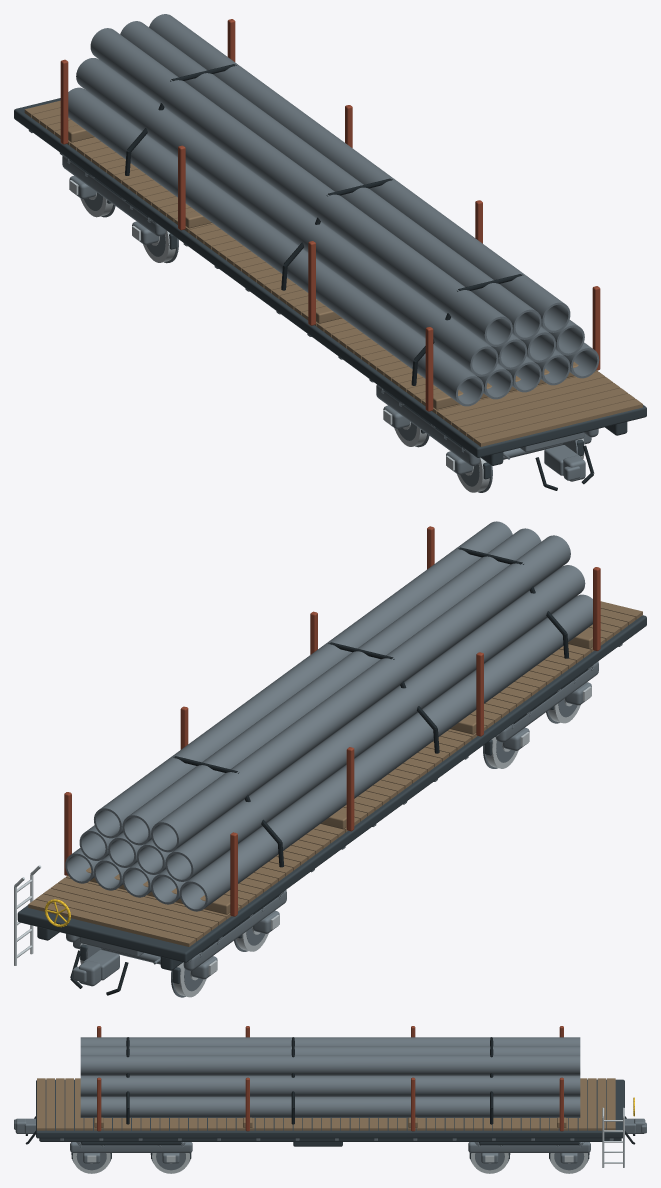
File: wagon_pipe_platform.glb
The picture shows the model from 3 angles, top to bottom: view 1: azimuth 30°, elevation 25°; view 2: azimuth 150°, elevation 25°; view 3: azimuth 270°, elevation 25°; orthographic projection. The views are drawn at different scales.
Visible parts, largest first — view 1: cargo_pipes, timber_deck, deck, stanchions, bogie_0_frame, bogie_1_frame, cargo_straps, coupler_front, underframe, bogie_0_wheel_0_L; view 2: cargo_pipes, timber_deck, deck, stanchions, bogie_1_frame, bogie_0_frame, cargo_straps, coupler_rear, underframe, access_ladders, bogie_1_wheel_1_L; view 3: cargo_pipes, timber_deck, deck, underframe, bogie_0_frame, bogie_1_frame, stanchions, cargo_straps, bogie_0_wheel_1_R, bogie_1_wheel_0_R, bogie_0_wheel_0_R, bogie_1_wheel_1_R (+4 smaller).
Part boxes in pixels (x1,y1,x2,y2): cargo_pipes: (68,14,599,406); timber_deck: (24,100,642,446); deck: (14,98,646,457); stanchions: (60,19,600,411); bogie_0_frame: (376,385,598,479); bogie_1_frame: (62,155,177,249); cargo_straps: (125,64,523,385); coupler_front: (535,445,594,490); underframe: (28,130,627,465); bogie_0_wheel_0_L: (457,457,492,492); cargo_pipes: (65,521,592,911); timber_deck: (28,601,642,946); deck: (17,615,646,962); stanchions: (64,526,600,916); bogie_1_frame: (66,890,286,983); bogie_0_frame: (484,661,598,755); cargo_straps: (173,547,568,867); coupler_rear: (70,949,128,995); underframe: (37,643,622,970); access_ladders: (14,865,41,965); bogie_1_wheel_1_L: (171,962,206,997); cargo_pipes: (80,1037,580,1117); timber_deck: (37,1078,615,1130); deck: (36,1079,624,1138); underframe: (39,1138,621,1141); bogie_0_frame: (70,1142,192,1163); bogie_1_frame: (468,1142,590,1163); stanchions: (94,1026,566,1131); cargo_straps: (126,1037,493,1124); bogie_0_wheel_1_R: (150,1153,190,1173); bogie_1_wheel_0_R: (470,1153,510,1173); bogie_0_wheel_0_R: (71,1153,110,1173); bogie_1_wheel_1_R: (550,1153,589,1173).
Bounding box in the file's own units: 3.1 × 3.01 × 15.32.
